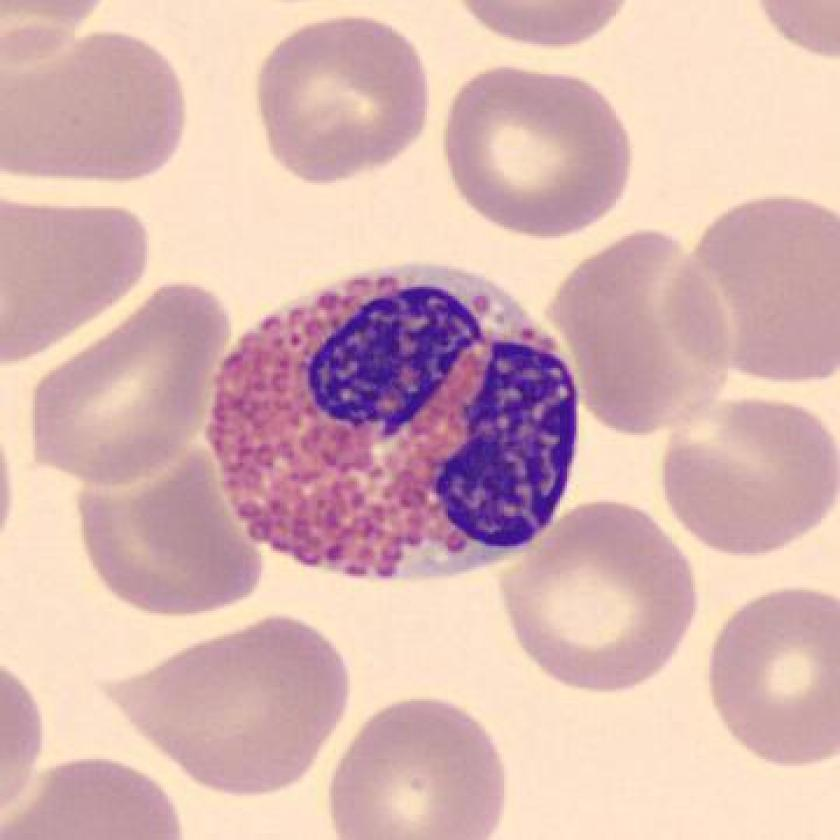eosinophil: (197, 253, 594, 603)
